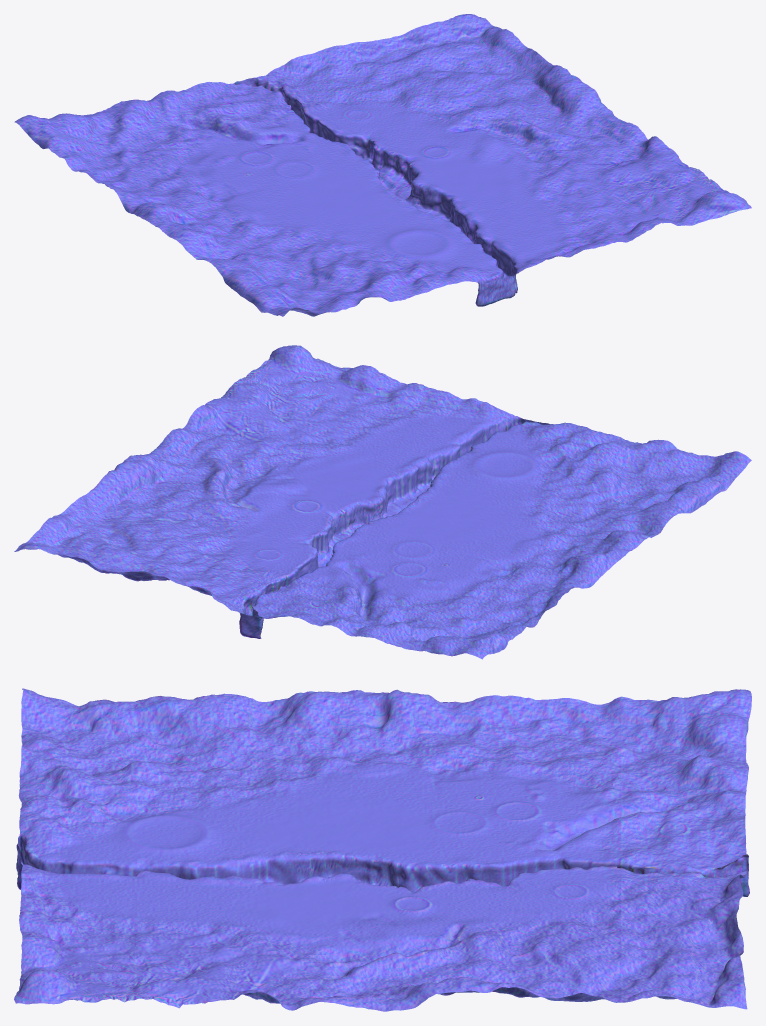
Rendered from MarsTerrain.FBX.
The picture shows the model from 3 angles, top to bottom: view 1: azimuth 30°, elevation 25°; view 2: azimuth 150°, elevation 25°; view 3: azimuth 270°, elevation 25°; orthographic projection. The views are drawn at different scales.
Visible parts, largest first — view 1: MarsTerrainLP; view 2: MarsTerrainLP; view 3: MarsTerrainLP.
Boxes of the visible parts, <box> form: MarsTerrainLP: <box>14,14,751,316</box>; MarsTerrainLP: <box>14,345,751,659</box>; MarsTerrainLP: <box>14,688,751,1011</box>.
Size of the model in its own units: 5057 by 494 by 5064.
